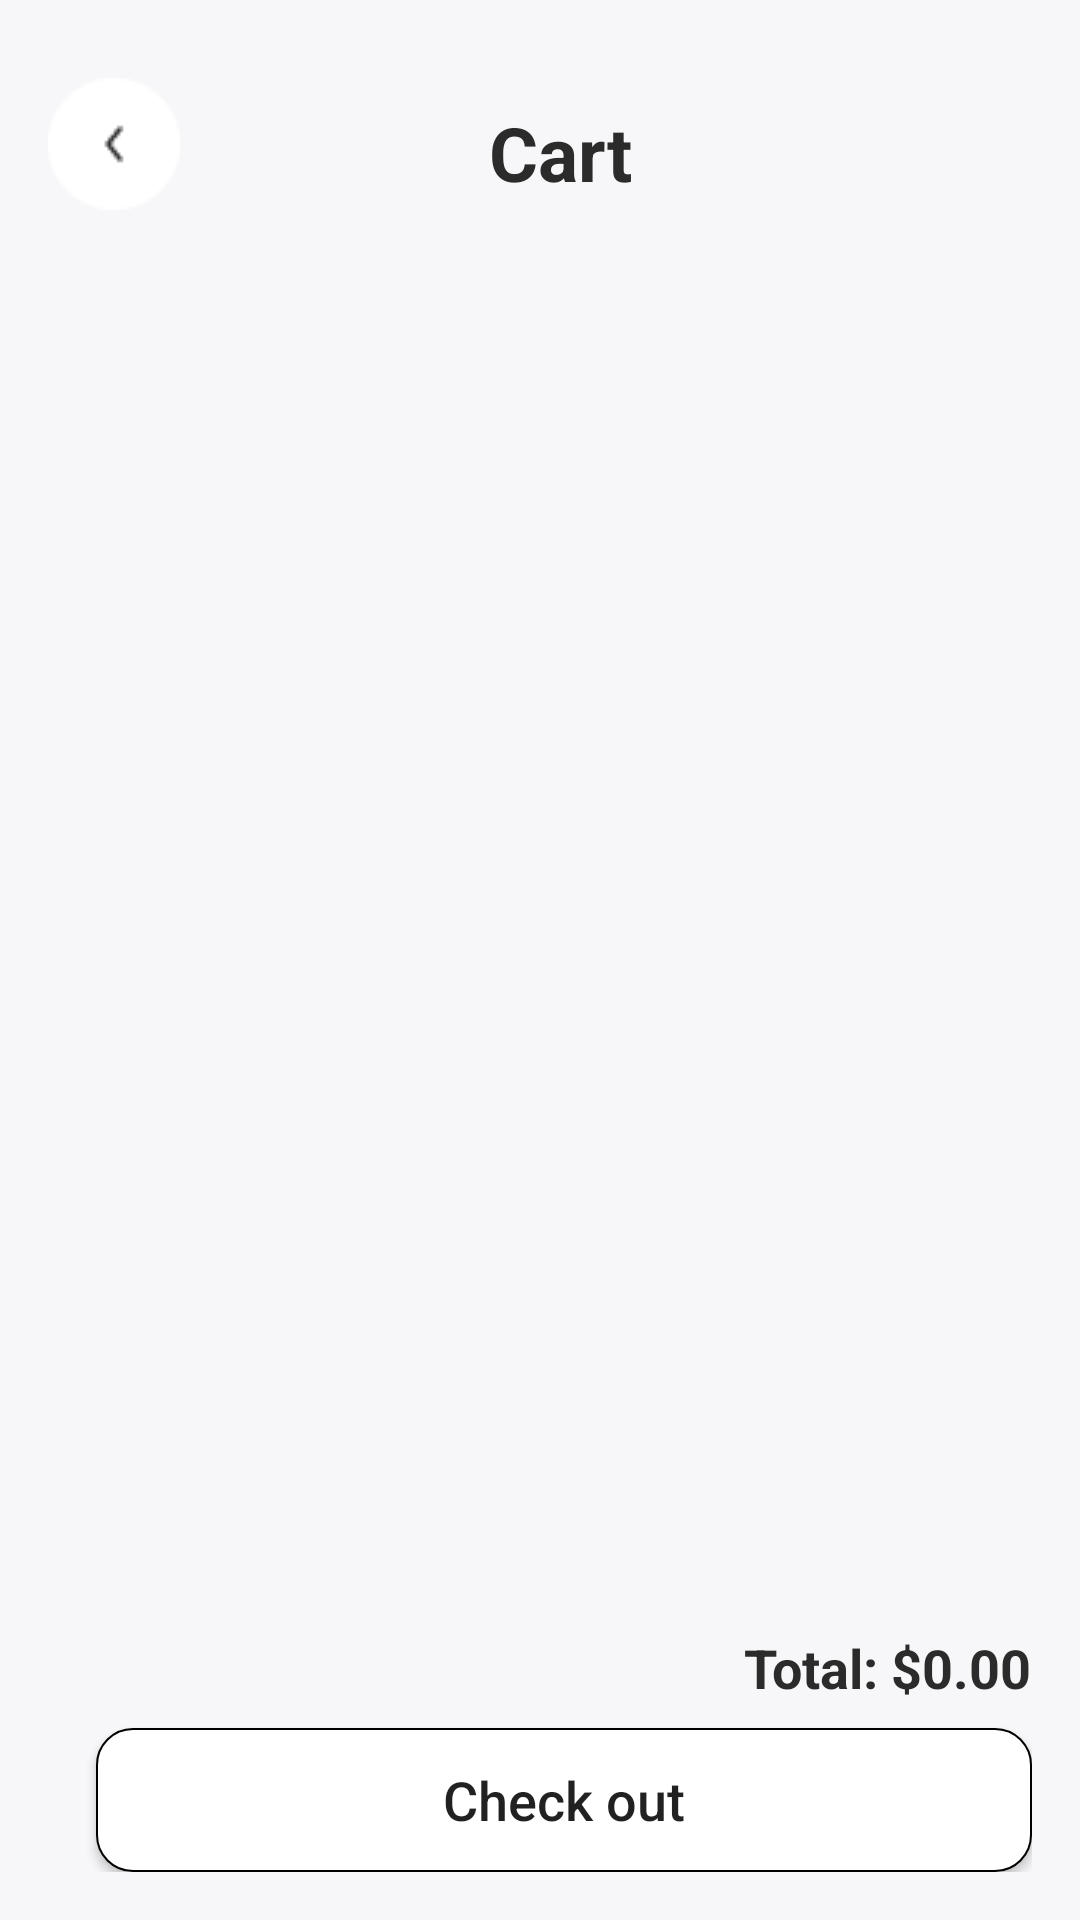

Where to tap for icons on this 1080 x 1920 app screen, as (x,y):
back: (114,144)
